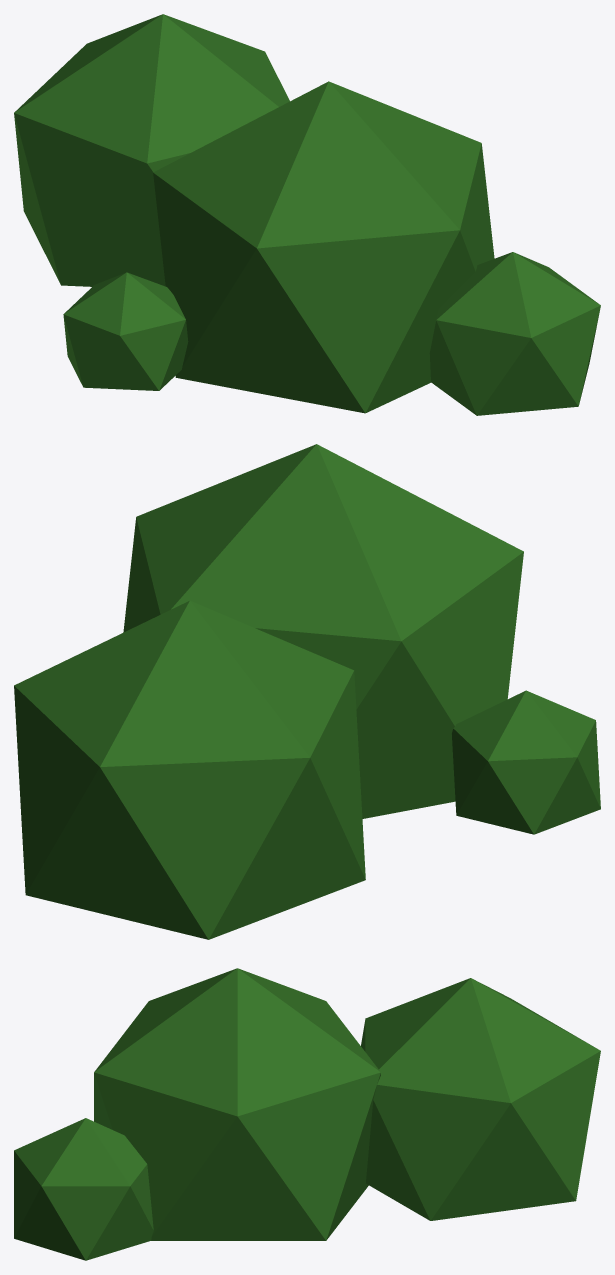
Rendered from BUSH1.fbx.
3 views of the same model, one above another, from view 1: azimuth 30°, elevation 25°; view 2: azimuth 150°, elevation 25°; view 3: azimuth 270°, elevation 25° (orthographic). The views are drawn at different scales.
Visible parts, largest first — view 1: Icosphere.022; view 2: Icosphere.022; view 3: Icosphere.022.
Part boxes in pixels (left/top/right/bottom): Icosphere.022: left=14, top=14, right=600, bottom=415; Icosphere.022: left=14, top=444, right=600, bottom=939; Icosphere.022: left=14, top=968, right=600, bottom=1260.
Bounding box in the file's own units: 36.69 × 22.86 × 52.6.
